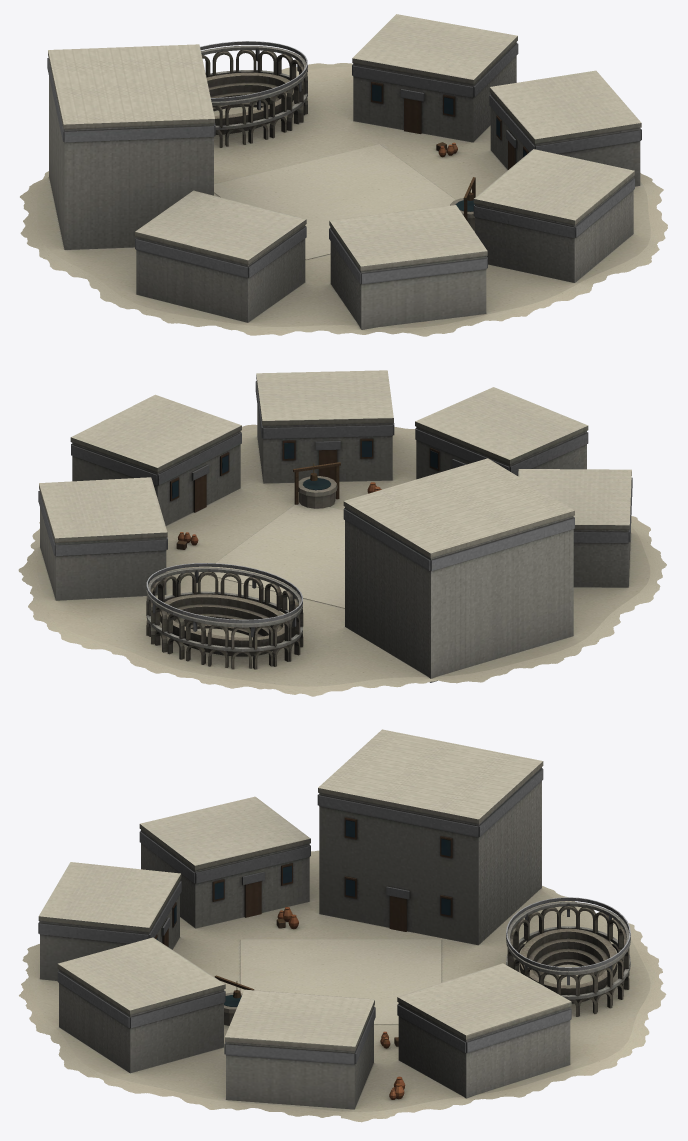
The model's file is classical-town-small-a-maghreb.glb.
The picture shows the model from 3 angles, top to bottom: view 1: azimuth 30°, elevation 25°; view 2: azimuth 150°, elevation 25°; view 3: azimuth 270°, elevation 25°; orthographic projection.
Visible parts, largest first — view 1: LOD0; view 2: LOD0; view 3: LOD0.
Part boxes in pixels (x1=…): LOD0: x1=20, y1=14, x2=667, y2=336; LOD0: x1=18, y1=370, x2=666, y2=696; LOD0: x1=19, y1=729, x2=666, y2=1122.
Size of what is drawn, in the model's own units: 3.98 by 0.8633 by 3.95.
Materials: 3 (3 with a texture image).
